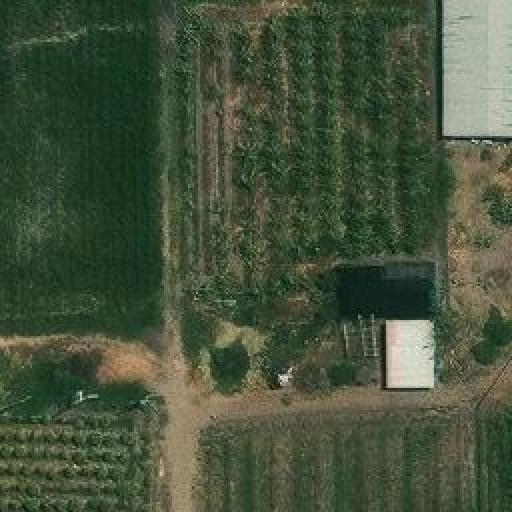manzanas: (339, 260, 443, 395), (435, 0, 510, 148)
